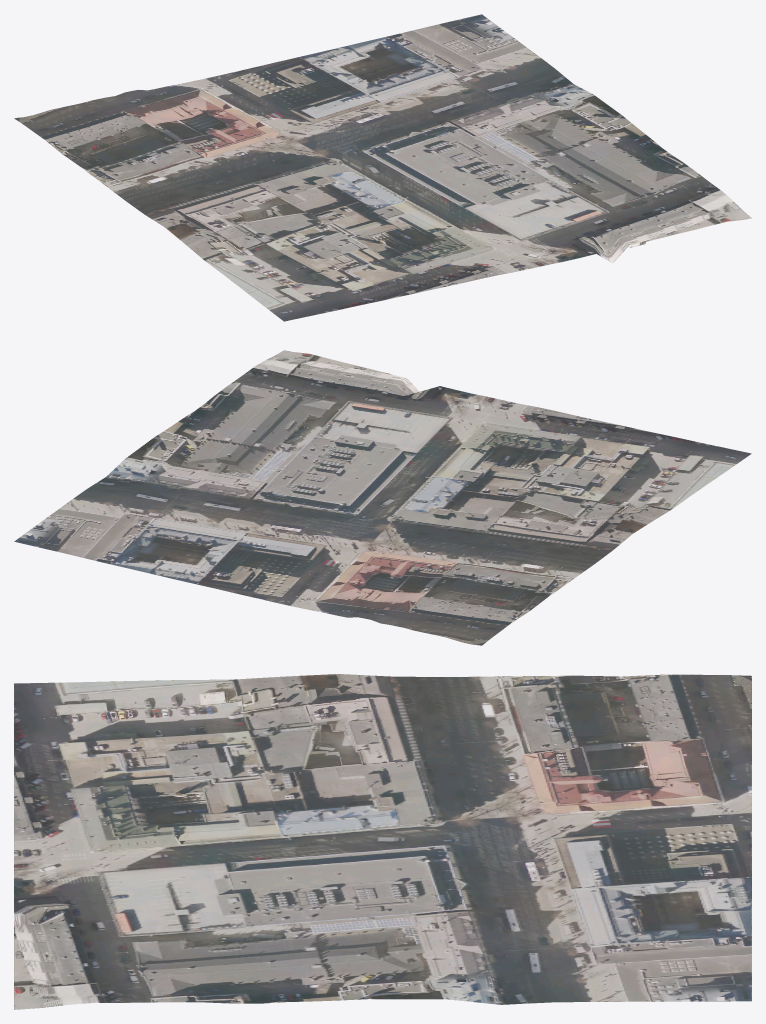
The model's file is CM_Terrain_24486978_6820818.fbx.
3 views of the same model, one above another, from view 1: azimuth 30°, elevation 25°; view 2: azimuth 150°, elevation 25°; view 3: azimuth 270°, elevation 25° (orthographic). The views are drawn at different scales.
Visible parts, largest first — view 1: CM_Terrain_24486978_6820818_LOD0; view 2: CM_Terrain_24486978_6820818_LOD0; view 3: CM_Terrain_24486978_6820818_LOD0.
Part boxes in pixels (x1,y1,x2,y2): CM_Terrain_24486978_6820818_LOD0: (14, 14, 751, 321); CM_Terrain_24486978_6820818_LOD0: (14, 350, 751, 645); CM_Terrain_24486978_6820818_LOD0: (14, 674, 751, 1009).
Size of what is drawn, in the model's own units: 205 by 12.14 by 205.
